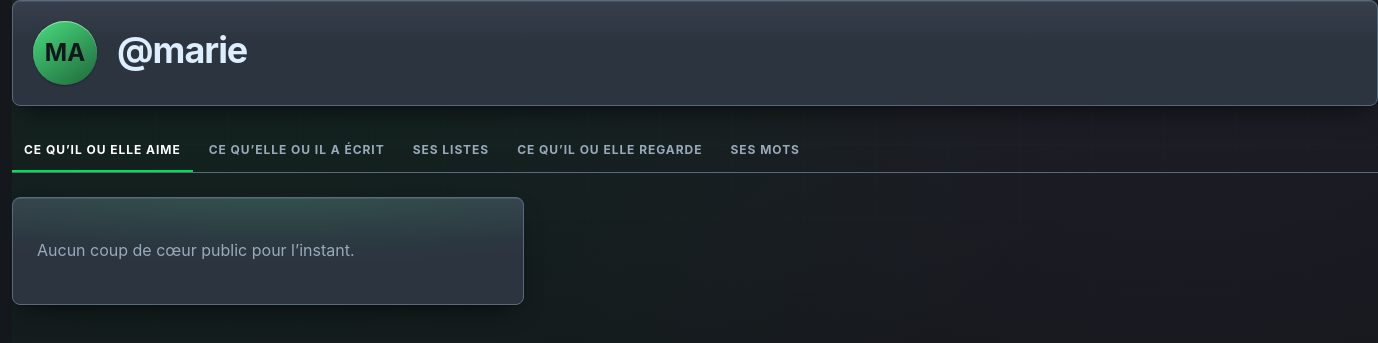
Test: l’onglet du journal › rend chaque fait avec sa serie et sa date, jamais la cle
Click the tab "Ce qu’il ou elle regarde": (610, 151) [505, 130, 714, 172]
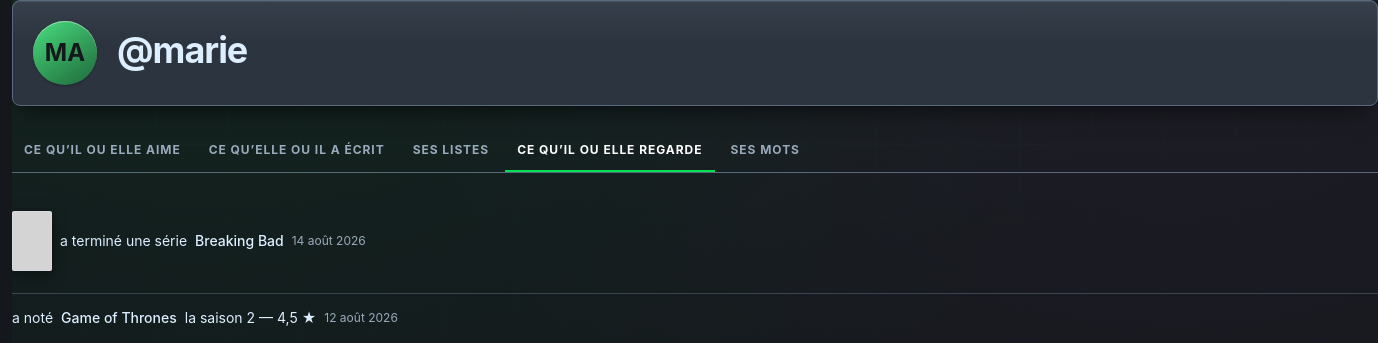
Result: the link "Breaking Bad" is shown at [195, 231, 284, 251]
Result: the text "14 août 2026" is shown at [292, 232, 366, 250]
